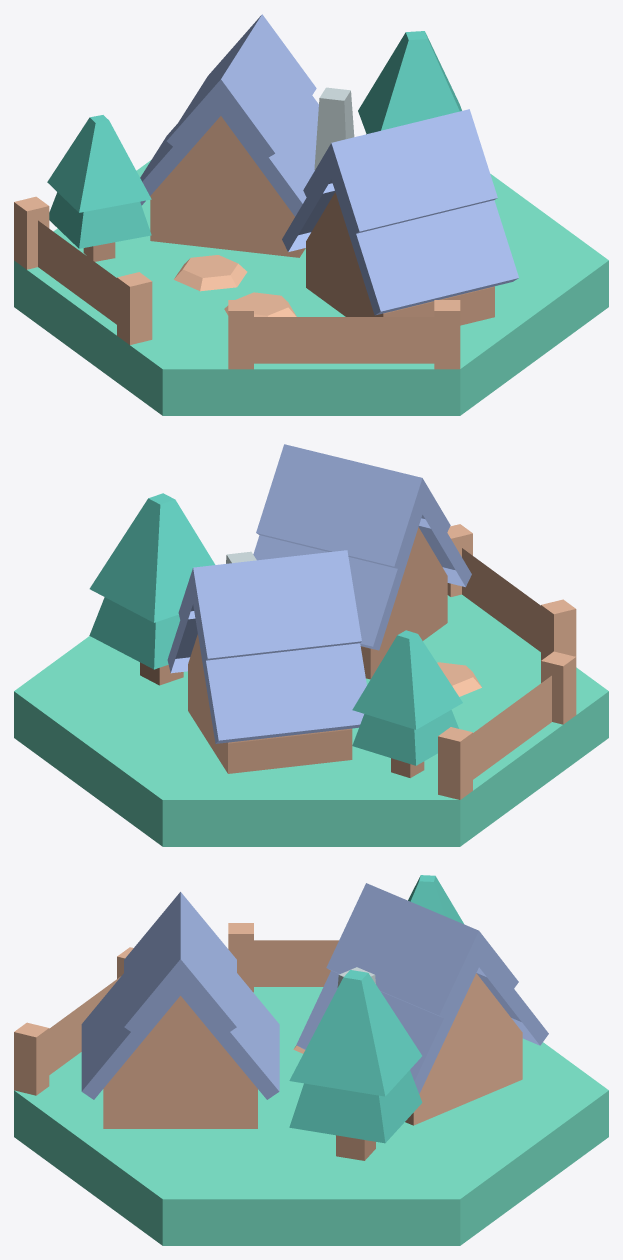
Rendered from Village.fbx.
3 views of the same model, one above another, from view 1: azimuth 30°, elevation 25°; view 2: azimuth 150°, elevation 25°; view 3: azimuth 270°, elevation 25° (orthographic).
Visible parts, largest first — view 1: building_village; view 2: building_village; view 3: building_village.
Boxes of the visible parts, <box> form: building_village: <box>14,14,608,415</box>; building_village: <box>14,444,608,846</box>; building_village: <box>14,875,608,1245</box>.
Size of the model in its own units: 100 by 48 by 115.
